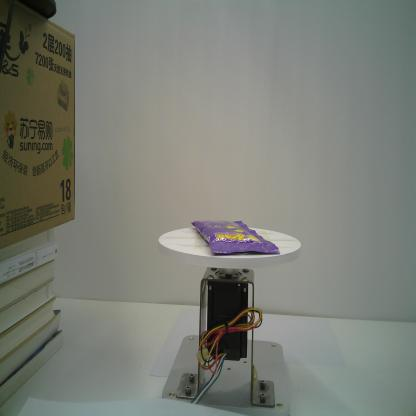Candy: (189, 217, 280, 258)
